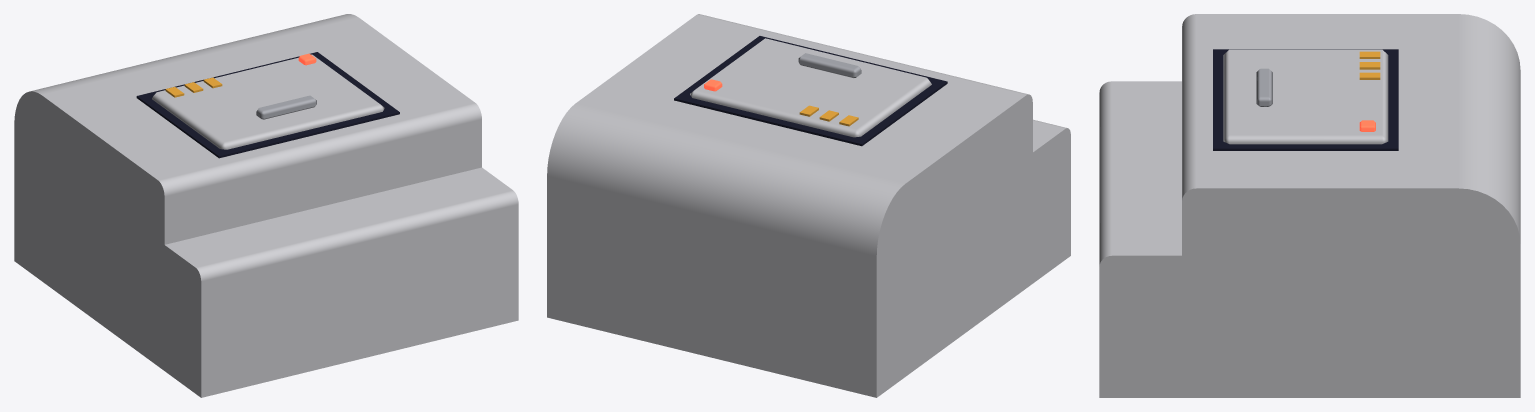
File: roof.shoulder.straight.hatch.s2.glb
The picture shows the model from 3 angles, left to right: view 1: azimuth 30°, elevation 25°; view 2: azimuth 150°, elevation 25°; view 3: azimuth 270°, elevation 25°; orthographic projection. The views are drawn at different scales.
Parts seen in each view (by area): view 1: roof.shoulder.straight.hatch.s2; view 2: roof.shoulder.straight.hatch.s2; view 3: roof.shoulder.straight.hatch.s2.
Part boxes in pixels (x1,y1,x2,y2): roof.shoulder.straight.hatch.s2: (14,14,518,397); roof.shoulder.straight.hatch.s2: (547,14,1070,397); roof.shoulder.straight.hatch.s2: (1099,14,1520,397).
Size of the model in its own units: 1 by 0.61 by 1.02.
